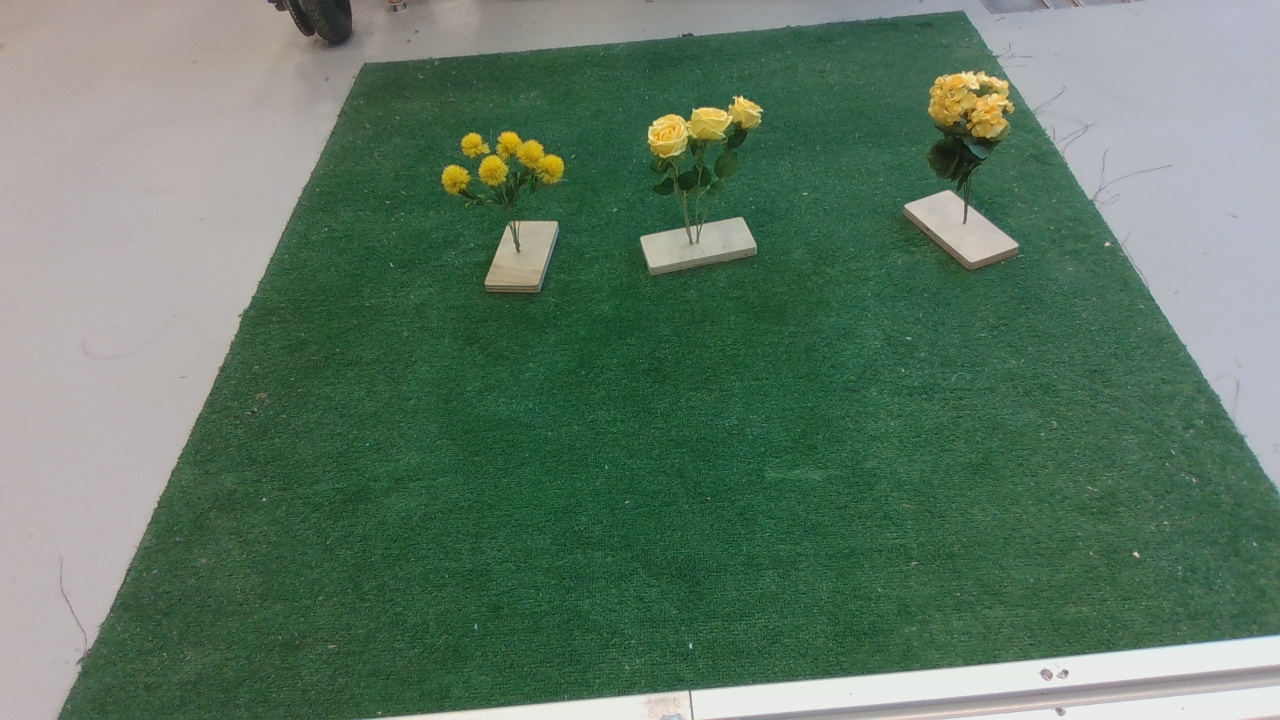dandelion: (437, 129, 580, 217)
geranium: (927, 68, 1022, 194)
rose: (647, 93, 784, 210)
